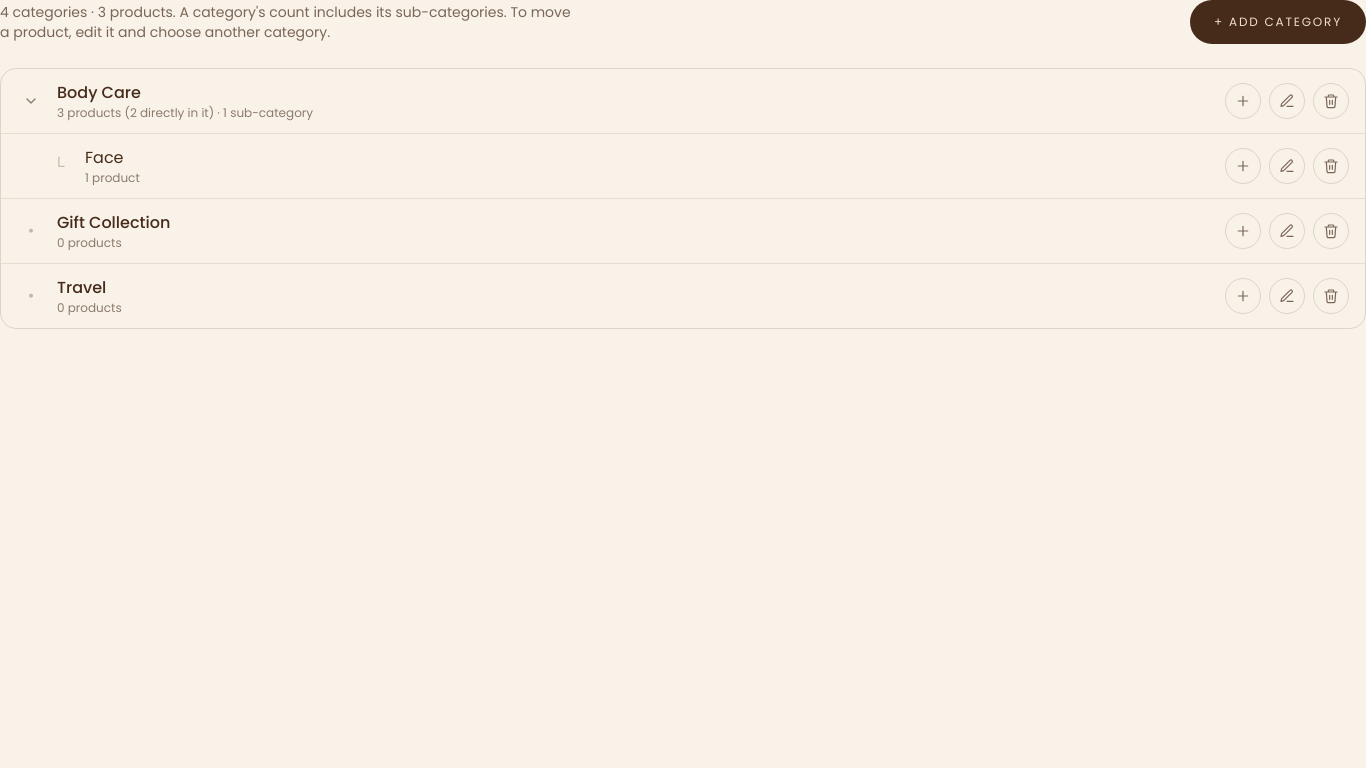
Test case: CategoryManager: adding and editing › an empty name is refused without asking the server
Click the button "+ Add category". click: (1278,22)
box: [1190,0,1365,44]
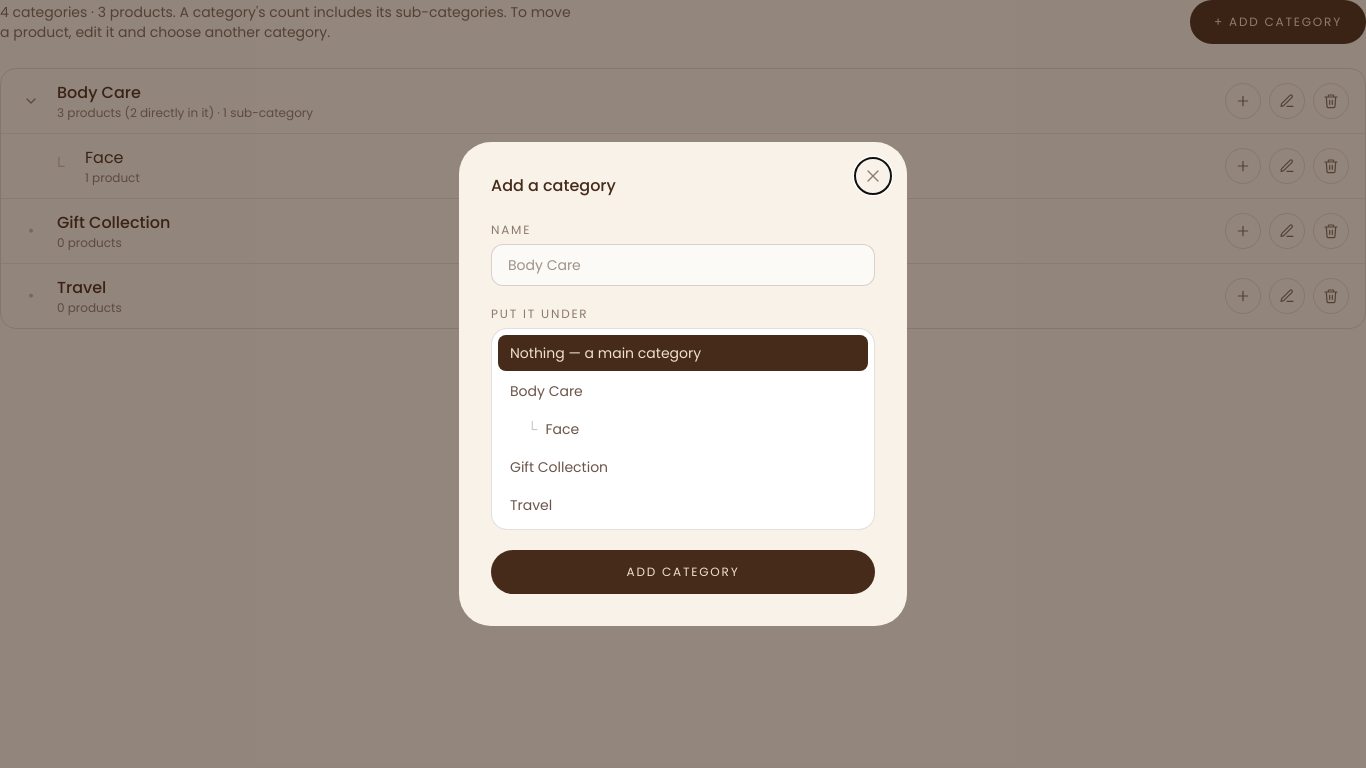
Click the button "Add category". click: (683,572)
box: [491,550,875,594]
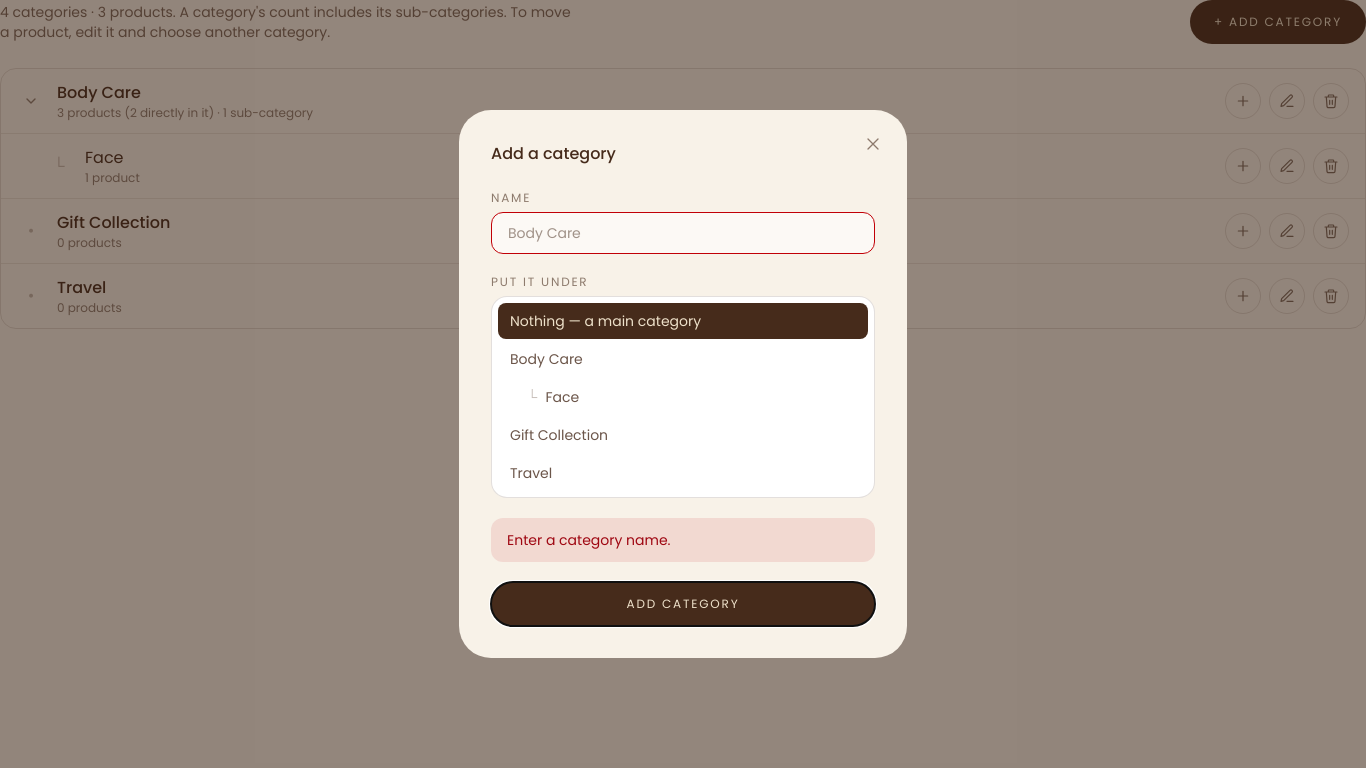
Expected: the message reads "Enter a category name.", [507,530,671,550]
